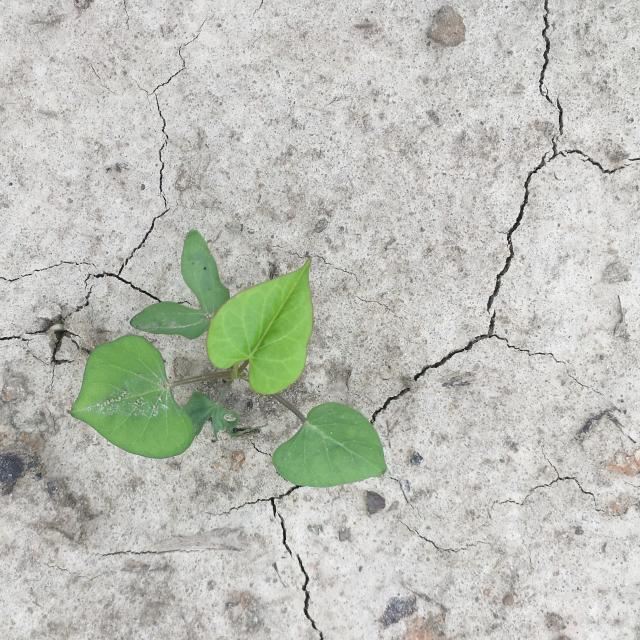MorningGlory: (70, 230, 391, 488)
